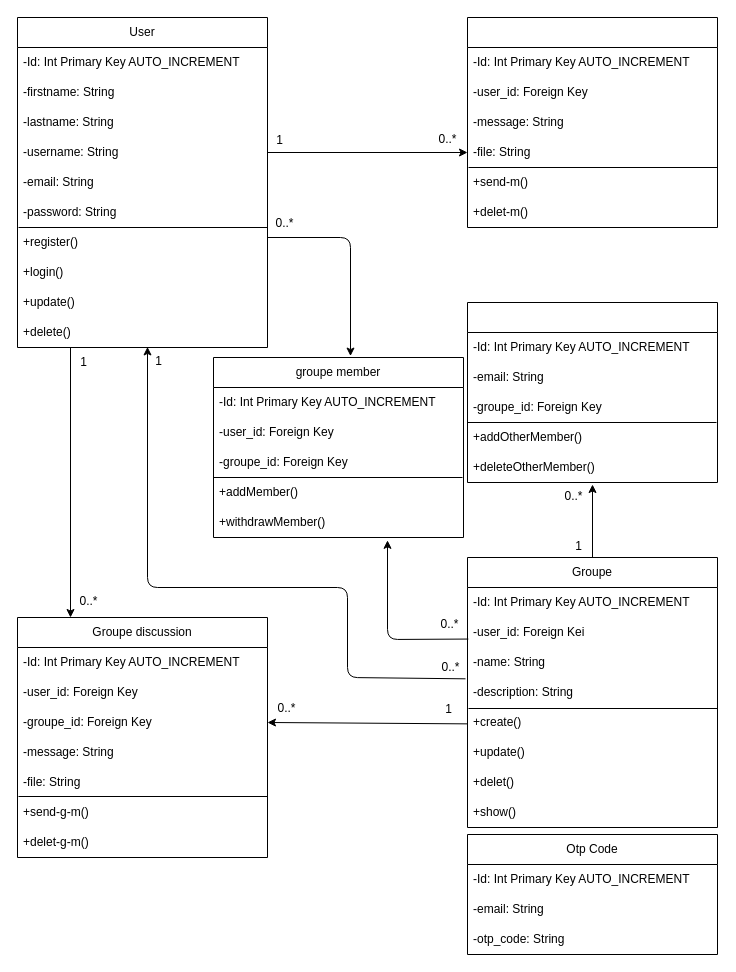
Image size: 736x972. Some labels were removed from this diagram. Each missing label, with the box of its shape:
Discussion: (466, 16, 718, 228)
Other groupe member: (466, 302, 718, 482)
